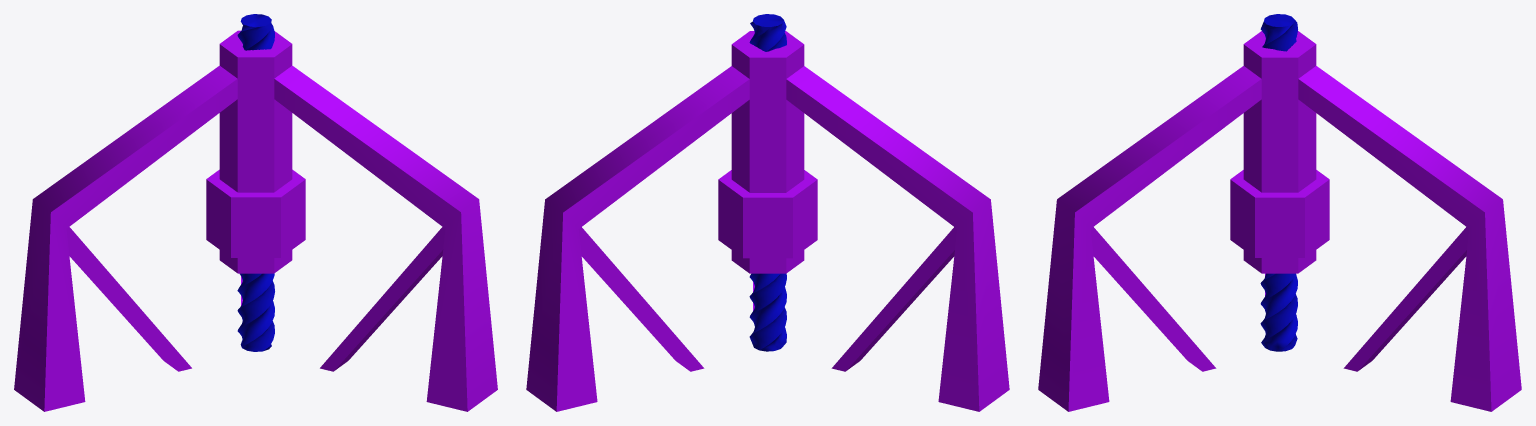
Rendered from Drill.fbx.
3 renders of one model, left to right at view 1: azimuth 30°, elevation 25°; view 2: azimuth 150°, elevation 25°; view 3: azimuth 270°, elevation 25°, orthographic.
Parts seen in each view (by area): view 1: bodyDrill (×2); view 2: bodyDrill (×2); view 3: bodyDrill (×2).
Part boxes in pixels (<box>): bodyDrill (×2): <box>14,14,497,411</box>; bodyDrill (×2): <box>526,14,1009,411</box>; bodyDrill (×2): <box>1038,14,1521,411</box>.
Bounding box in the file's own units: 82.19 × 70.37 × 94.91.
